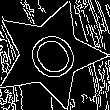O_SE: (16, 21, 84, 88)
